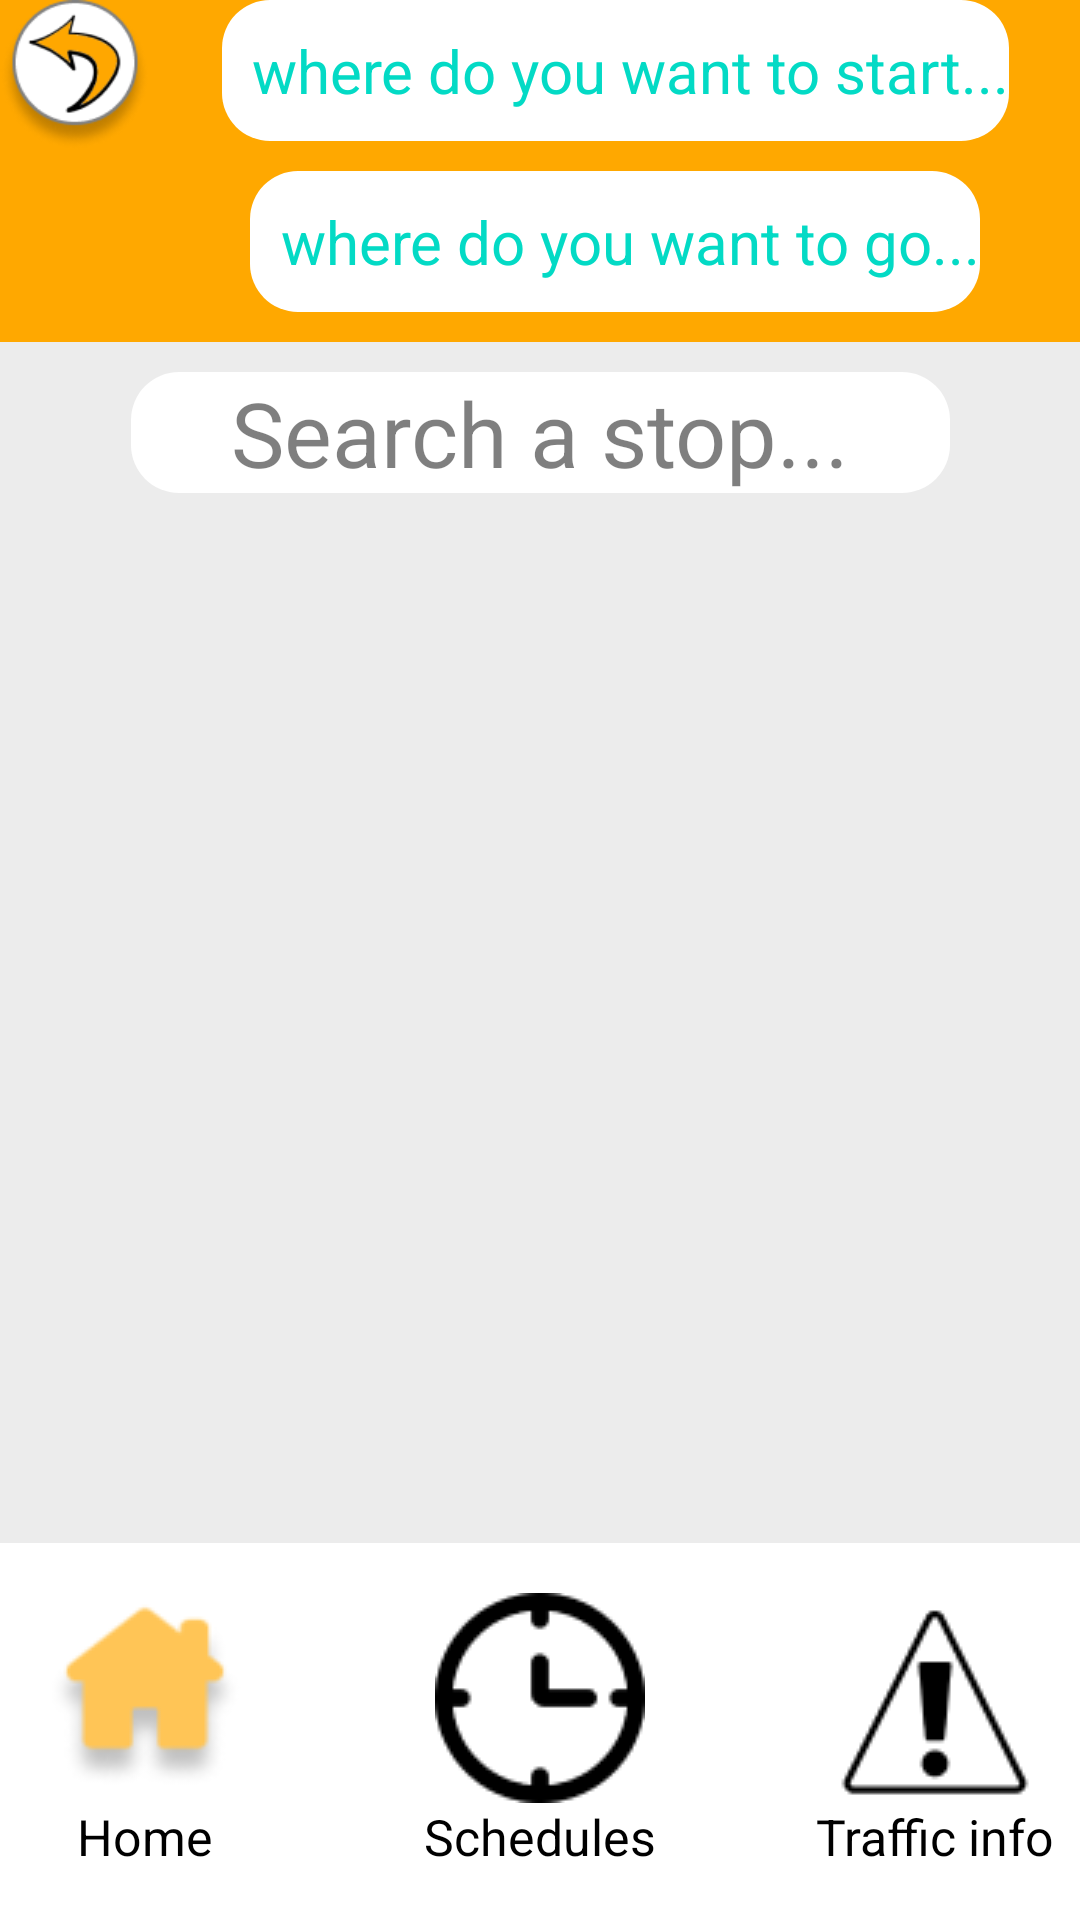

Icon bounding boxes for this 1080w x 1920h phone screenshot, format [x1=x1, y1=y1, x2=x2, y2=y2]:
returnbutton: [x1=11, y1=0, x2=139, y2=139]
